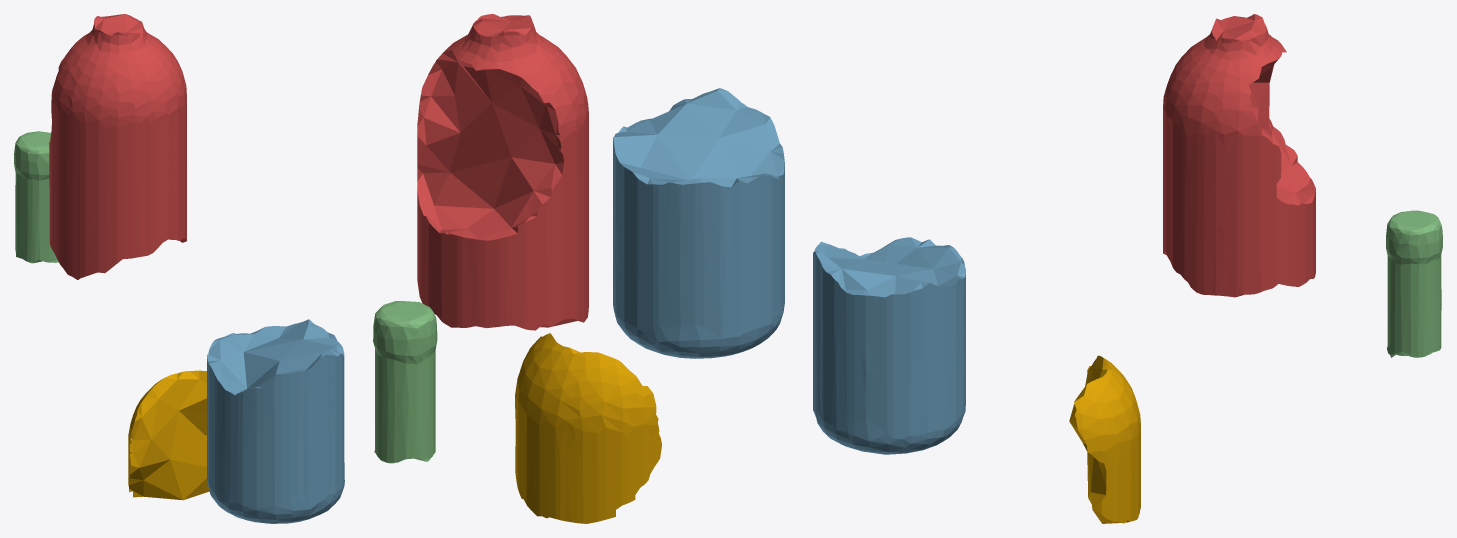
The model's file is fractured_13_4pcs_transformed.glb.
The picture shows the model from 3 angles, left to right: view 1: azimuth 30°, elevation 25°; view 2: azimuth 150°, elevation 25°; view 3: azimuth 270°, elevation 25°; orthographic projection. The views are drawn at different scales.
Parts seen in each view (by area): view 1: piece_1.obj, piece_2.obj, piece_0.obj, piece_3.obj; view 2: piece_1.obj, piece_2.obj, piece_0.obj, piece_3.obj; view 3: piece_1.obj, piece_2.obj, piece_0.obj, piece_3.obj.
Boxes of the visible parts, bbox=[...] form: piece_1.obj: bbox=[49, 14, 186, 279]; piece_2.obj: bbox=[207, 319, 344, 523]; piece_0.obj: bbox=[128, 370, 209, 500]; piece_3.obj: bbox=[14, 131, 58, 263]; piece_1.obj: bbox=[417, 14, 588, 330]; piece_2.obj: bbox=[613, 88, 784, 358]; piece_0.obj: bbox=[515, 333, 661, 523]; piece_3.obj: bbox=[373, 301, 437, 463]; piece_1.obj: bbox=[1163, 14, 1315, 297]; piece_2.obj: bbox=[813, 237, 965, 454]; piece_0.obj: bbox=[1069, 355, 1140, 523]; piece_3.obj: bbox=[1386, 210, 1442, 357].
Bounding box in the file's own units: 0.2625 × 0.9229 × 1.08.
